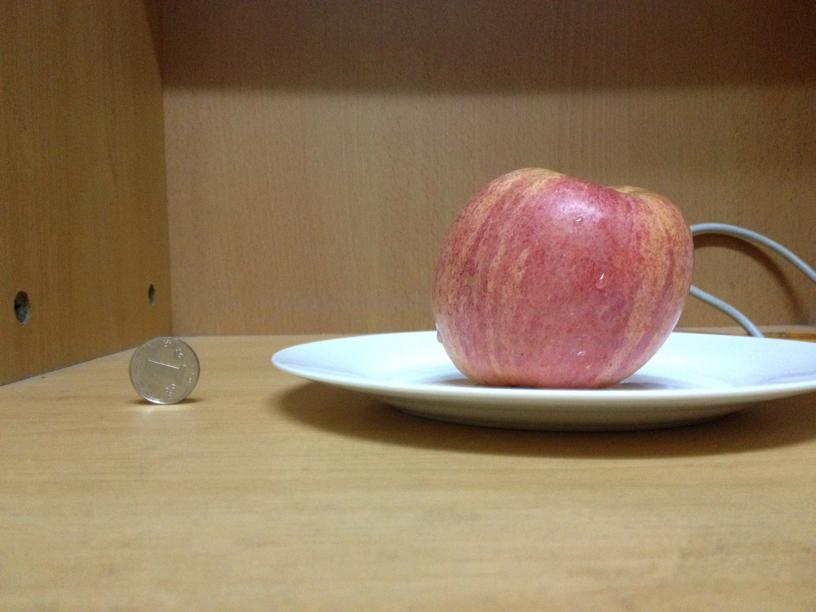apple: (432, 165, 692, 389)
coin: (127, 336, 200, 405)
